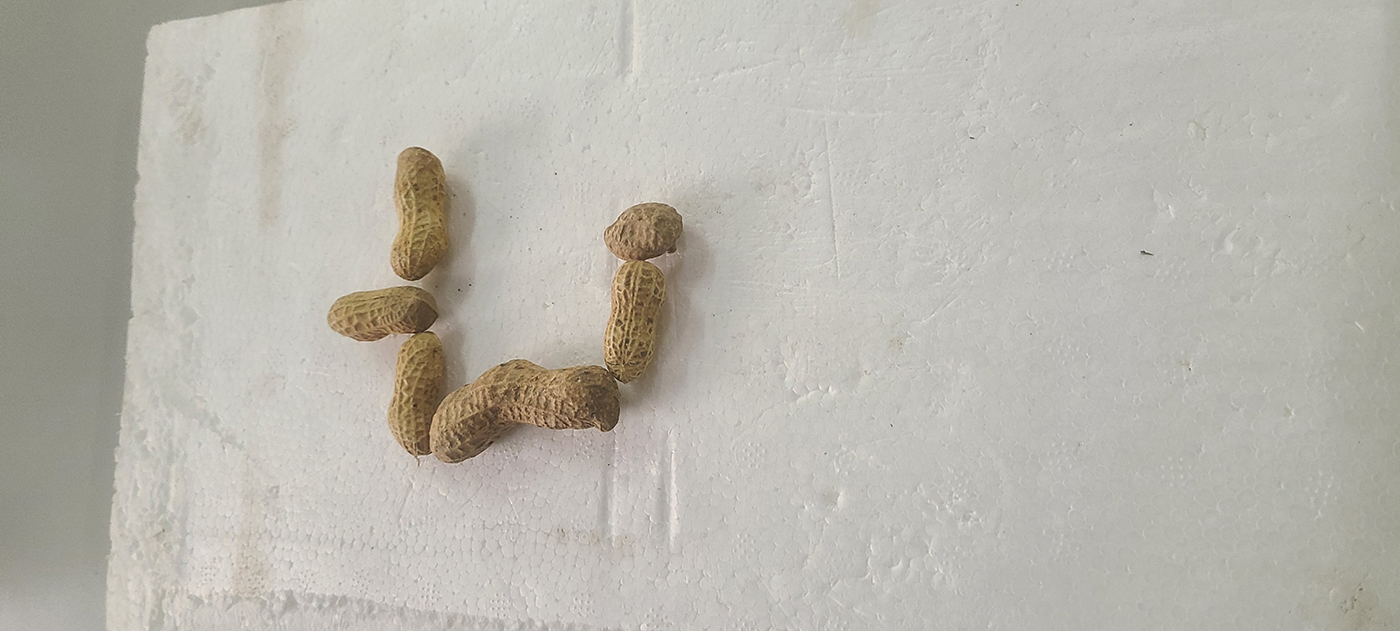h: (429, 359, 619, 461), (386, 146, 452, 279), (385, 329, 448, 454), (603, 259, 664, 384), (328, 285, 438, 341)
